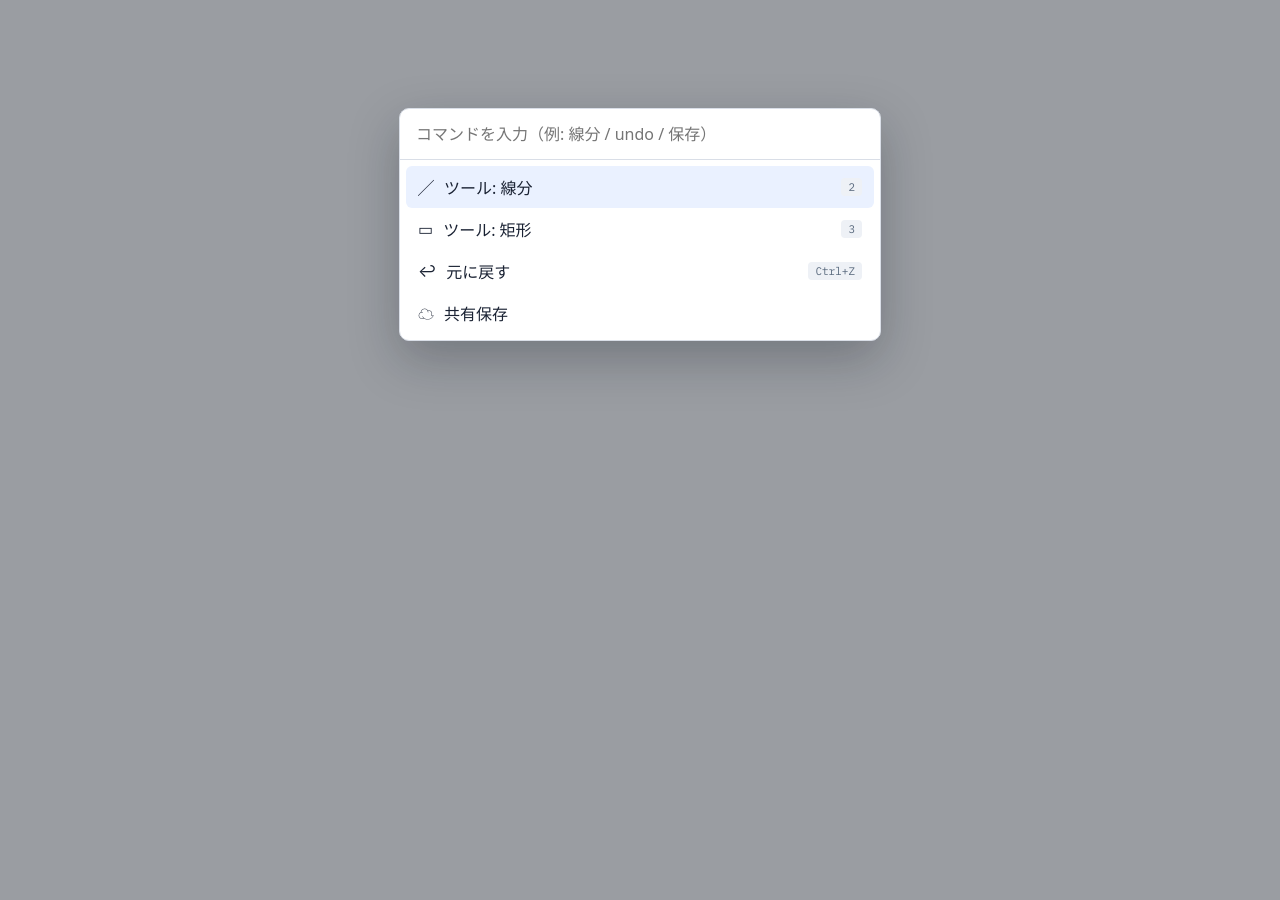
Test: CommandPalette › open=true で候補一覧を表示し、入力を絞り込む
The image size is (1280, 900).
Expected: the dialog named "コマンドパレット" is shown, [399,108,881,341]
Expected: the option "╱ ツール: 線分 2" is shown, [406,166,874,208]
In the dropdown: (640, 134) [400,109,880,160], type "undo"
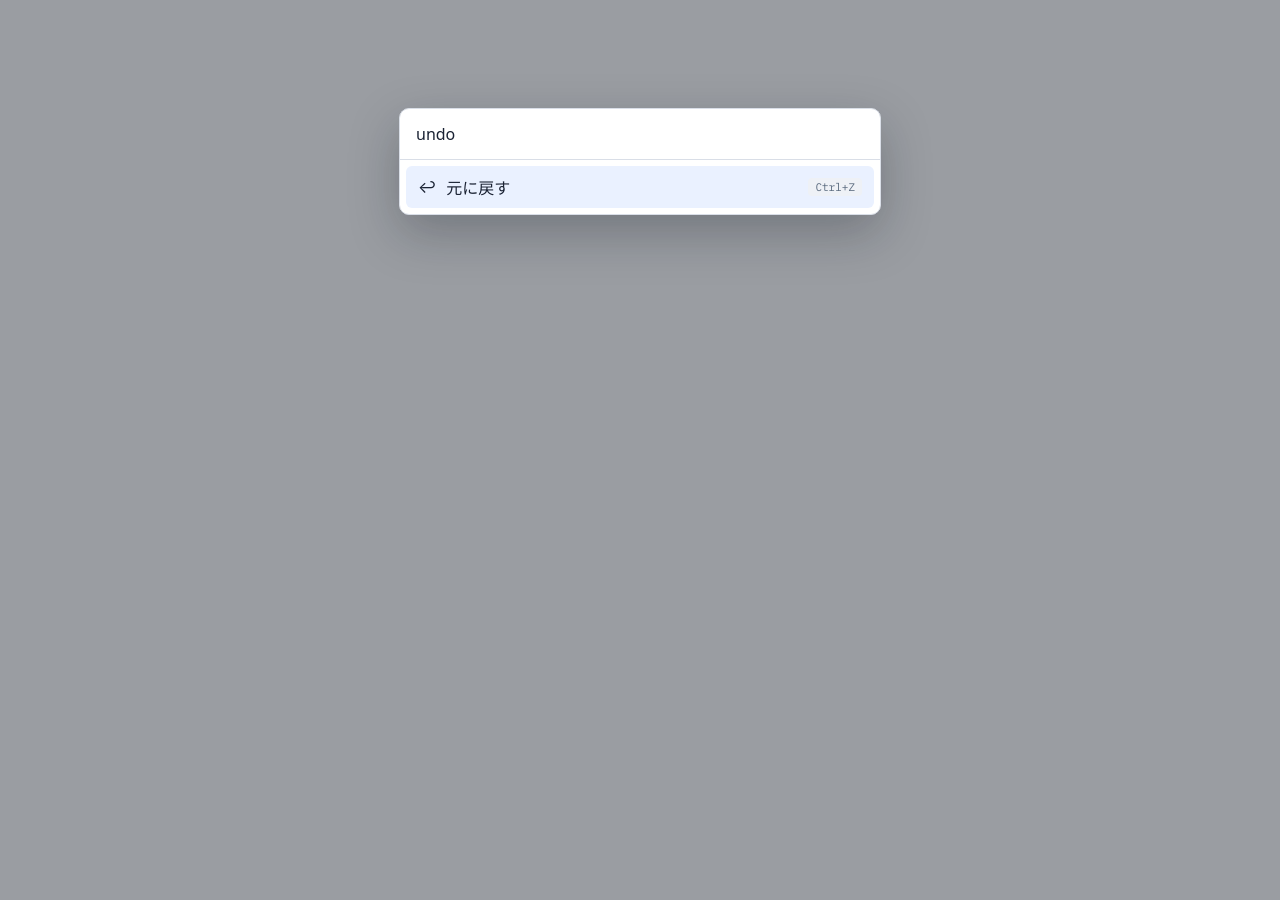
Expected: the option "↩ 元に戻す Ctrl+Z" is shown, [406,166,874,208]
Result: the option "ツール: 線分" is gone
